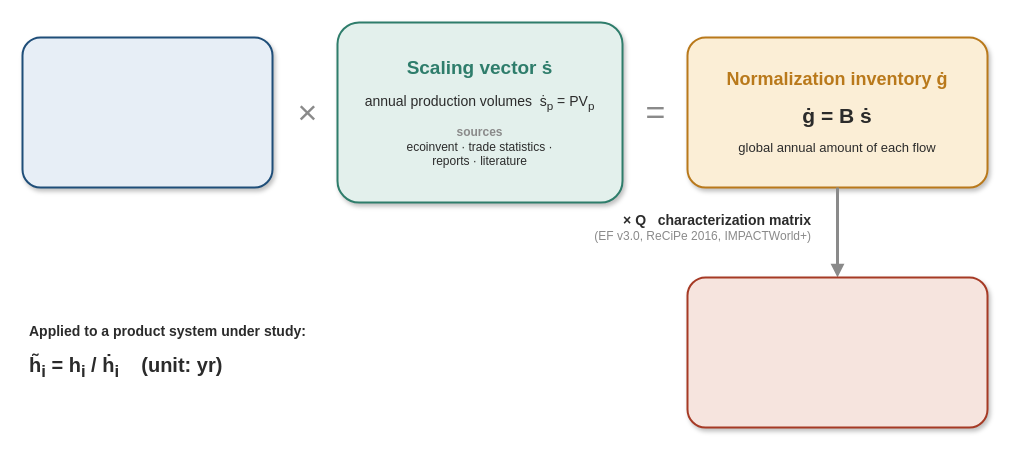
Image size: 1011x452. Some labels were removed from this diagram. Each missing label, with the centre of its shape:
"Intervention matrix B ecoinvent 3.8 cut-off direct flow intensities b e,p" goes at point (148, 113).
"Normalization reference ḣ ḣ = Q ġ per impact category i" goes at point (838, 353).
